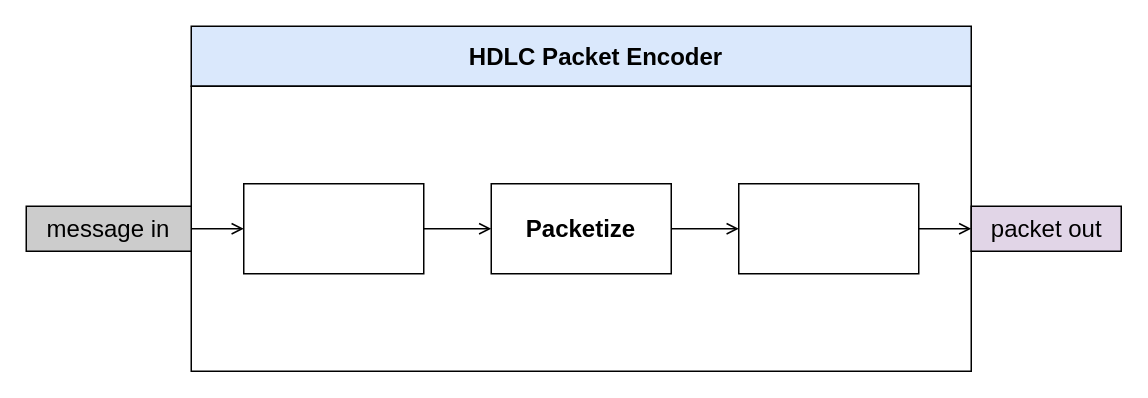
Image size: 1148x398. Some labels were removed from this diagram. Here are the shapes that lost their labels. From the top down, the box of each, then its label:
(242, 182, 424, 274): Framing
(737, 182, 919, 274): NRZI Coding
